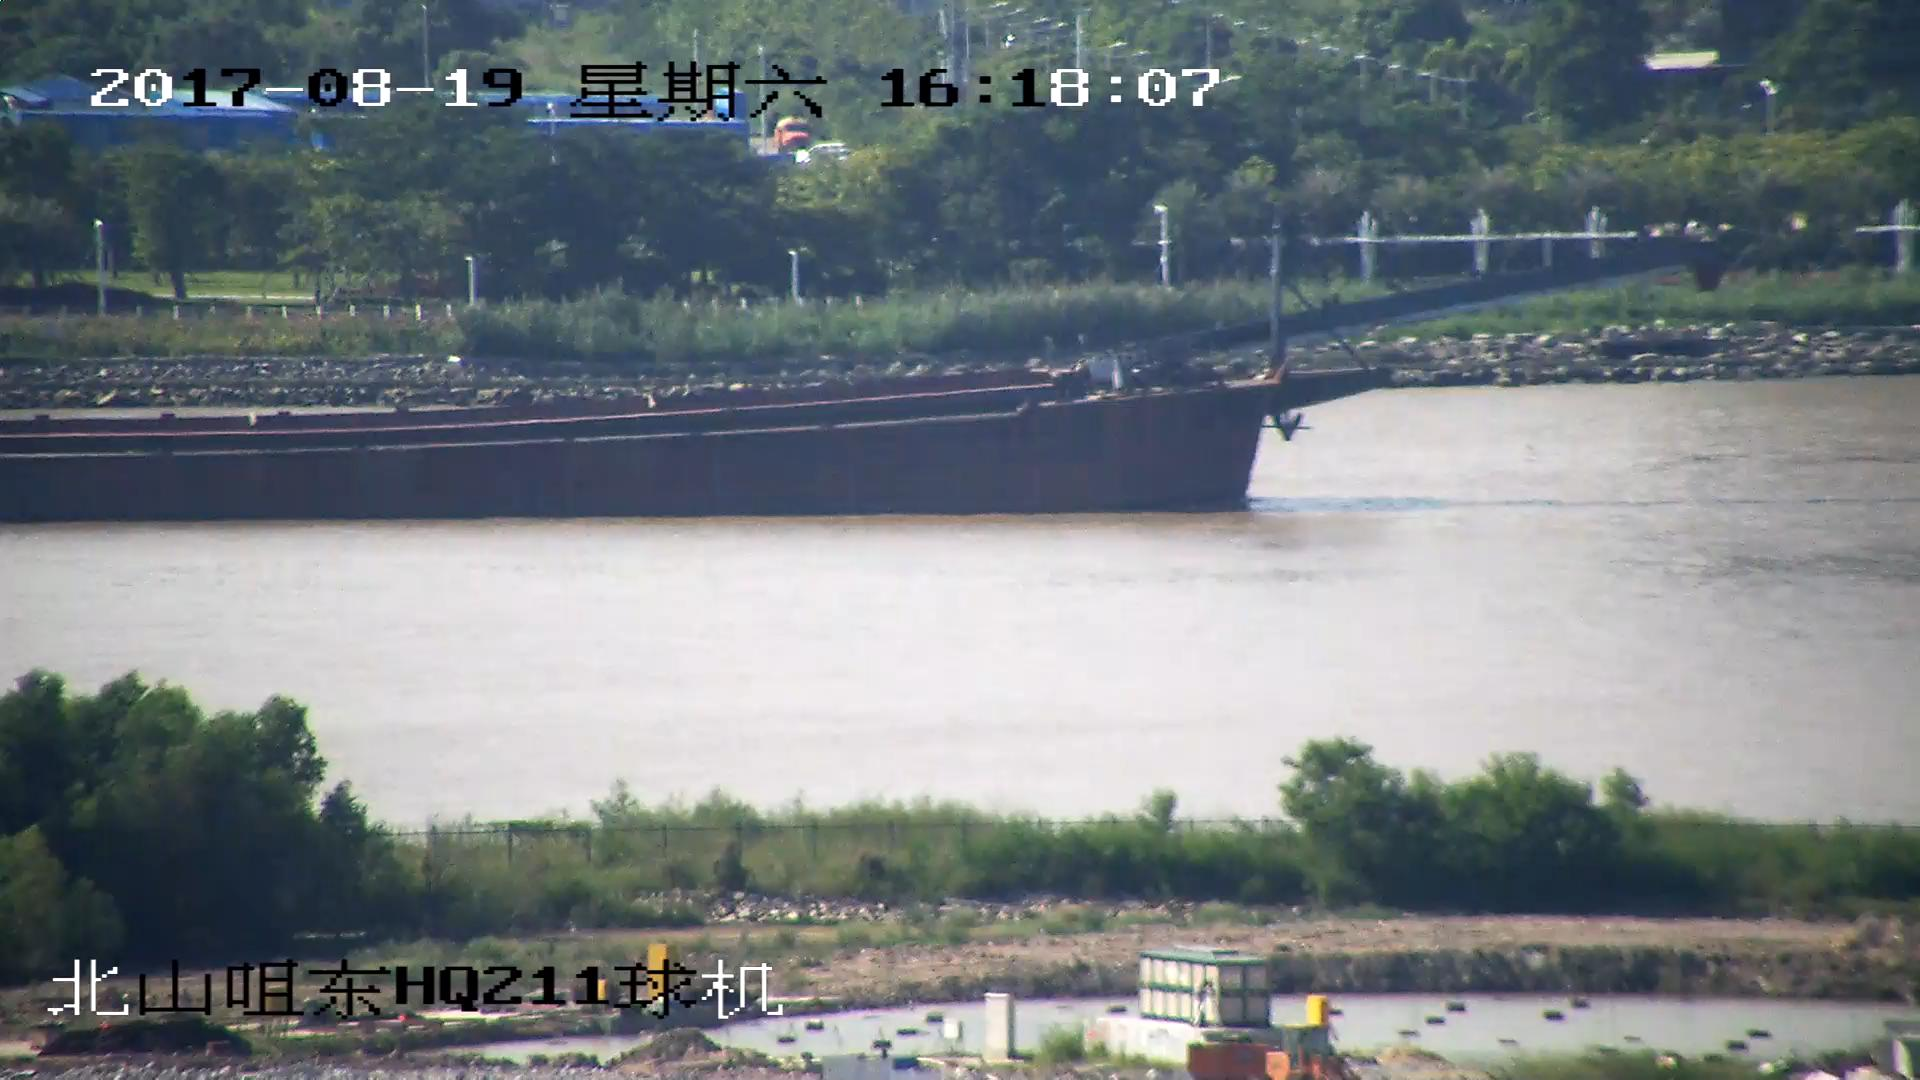bulk cargo carrier: (1, 242, 1709, 525)
